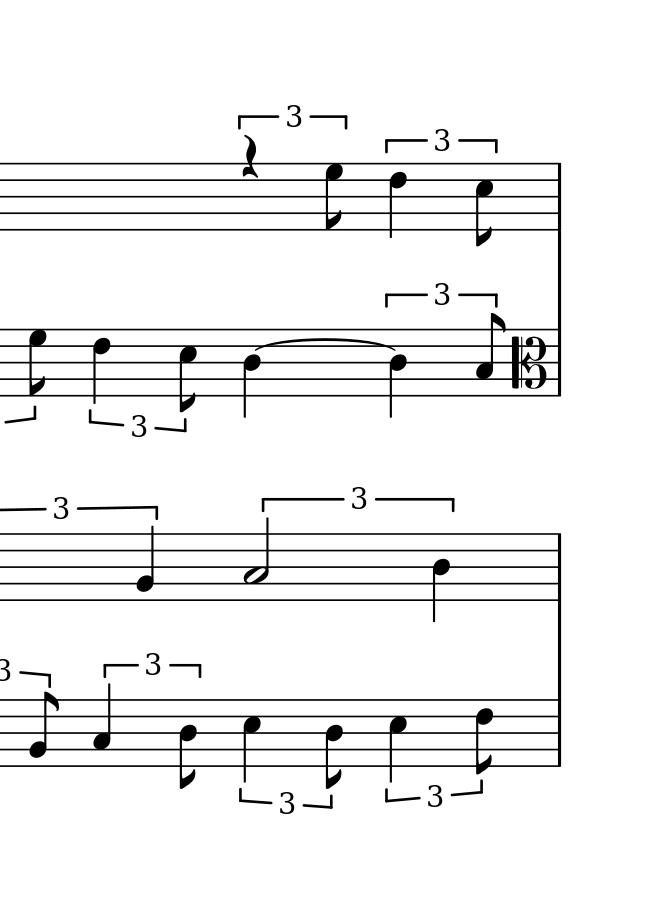2_3: (244, 516, 272, 602)
4_2: (136, 524, 156, 603)
4_3: (92, 682, 112, 769)
4_4: (430, 531, 452, 625), (242, 328, 263, 420), (388, 327, 408, 420)
4_5: (241, 697, 262, 784), (387, 698, 408, 785)
4_6: (387, 162, 408, 241), (92, 328, 110, 405)
8_2: (28, 690, 61, 769)
8_3: (475, 313, 506, 398)
8_4: (177, 697, 198, 789), (324, 699, 344, 791)
8_5: (178, 328, 199, 413), (475, 161, 495, 247)
8_6: (474, 698, 495, 777)
8_7: (27, 327, 49, 397), (325, 162, 345, 232)
Cclef: (509, 328, 550, 400)
Rests4: (240, 132, 260, 179)
Single_barline: (550, 533, 567, 601), (551, 697, 567, 767), (550, 329, 566, 398), (550, 163, 566, 230)
